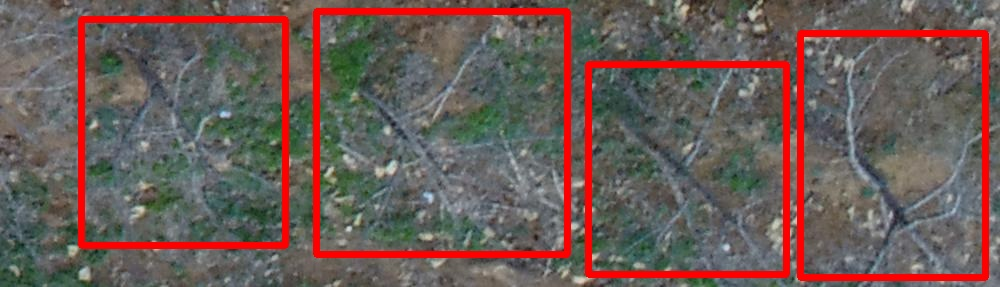apple: (316, 11, 567, 254), (81, 19, 285, 245), (800, 33, 985, 277), (588, 64, 786, 274)
